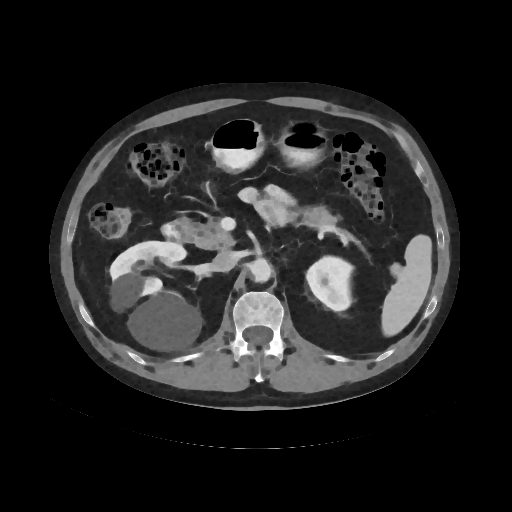Lesion: (126, 293, 205, 356)
